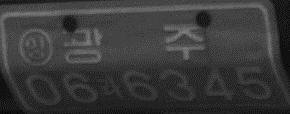0: (24, 72, 60, 106)
3: (159, 68, 196, 103)
4: (201, 66, 233, 101)
5: (235, 65, 271, 100)
6: (62, 73, 97, 104), (123, 70, 157, 101)
광주_D: (61, 23, 205, 64)
라: (98, 73, 123, 100)
영: (18, 28, 54, 68)
